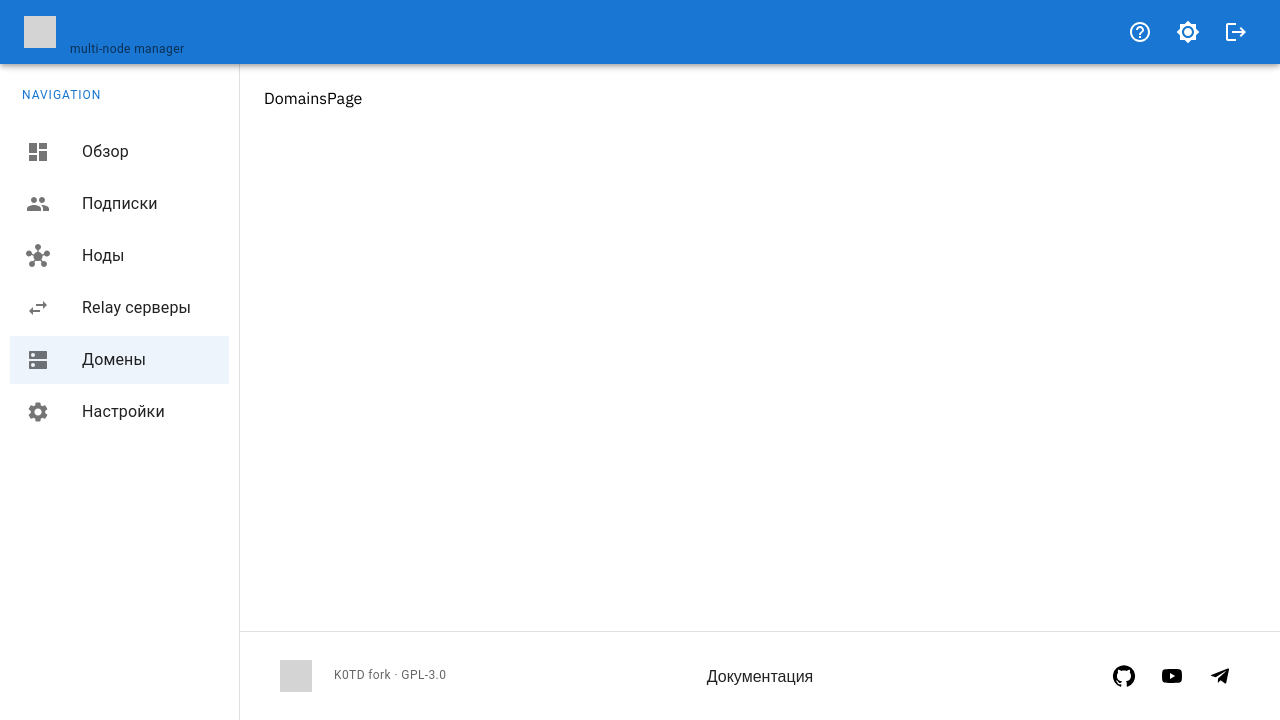
Layout › должен переходить на главную при клике на "Подписки"
Click the button "Подписки".
click(92, 204)  # box [26,192,158,216]
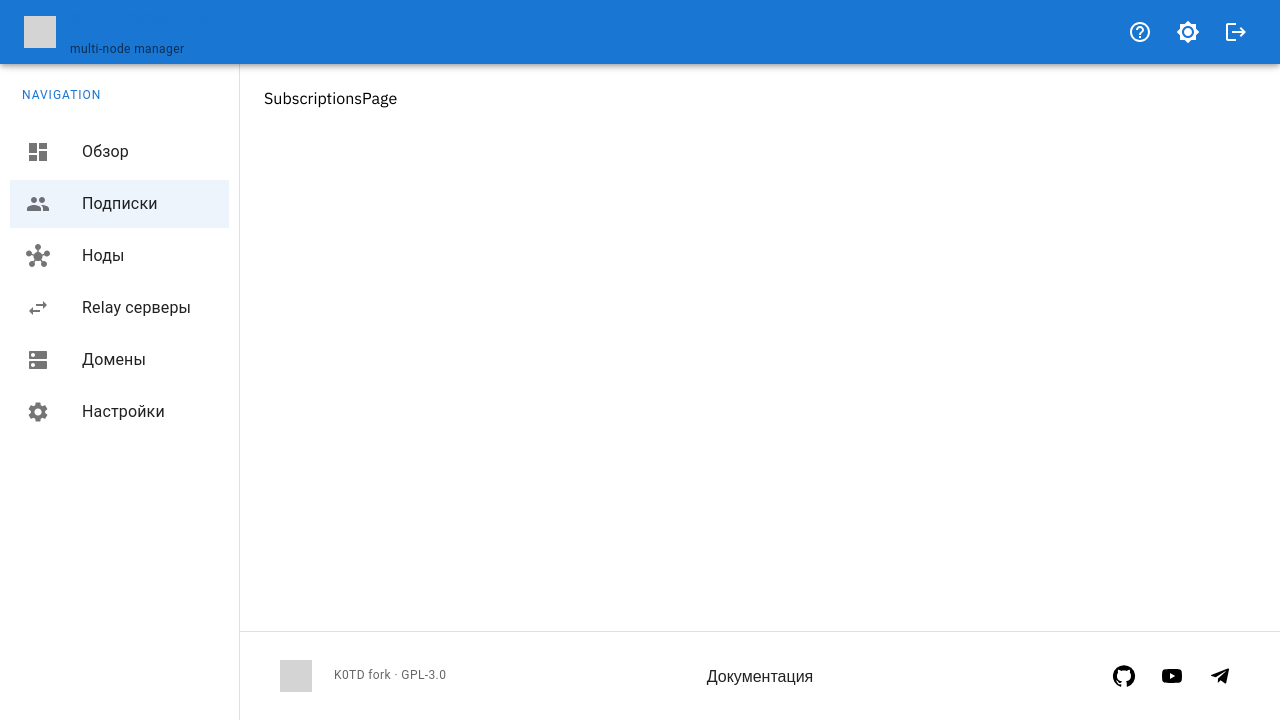
Result: the text "SubscriptionsPage" is shown at [264,88,397,108]
